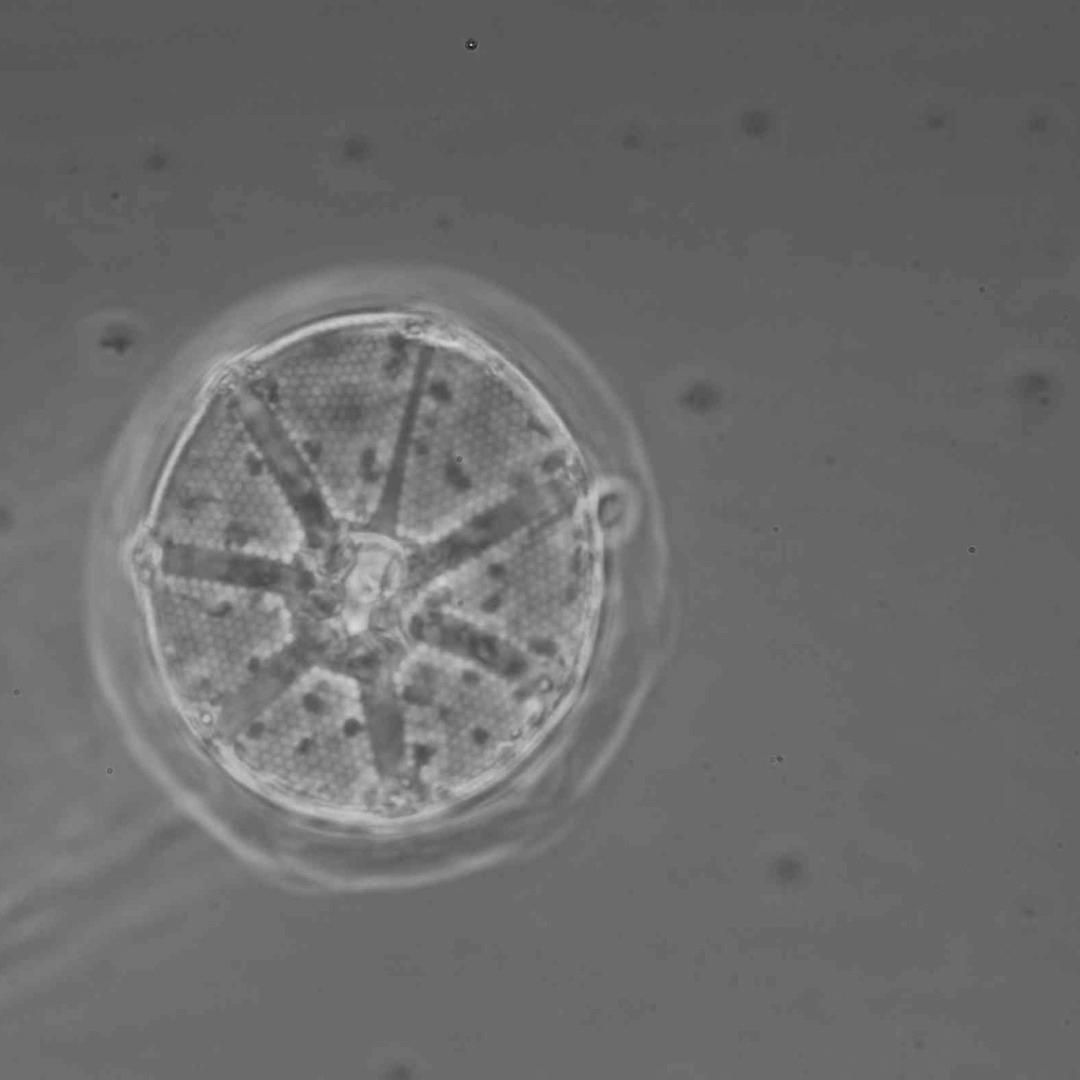asteromphalus_hyalinus: (133, 317, 607, 831)
